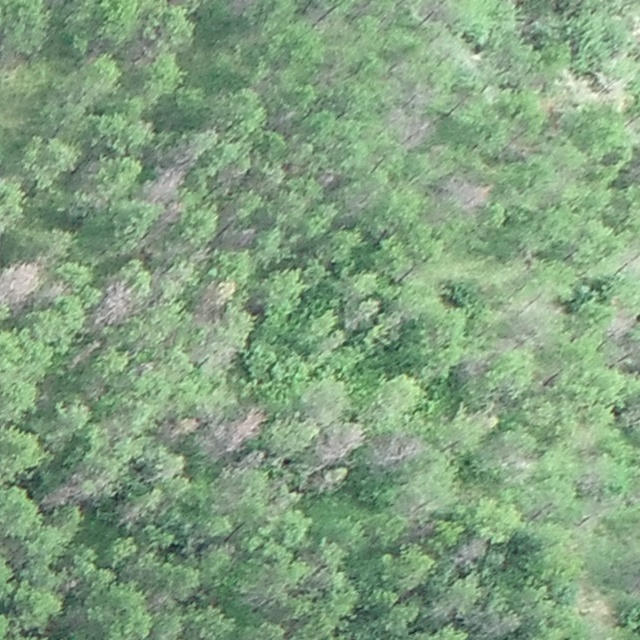unhealthy: (213, 404, 266, 456), (386, 100, 438, 151), (39, 471, 100, 509), (144, 156, 192, 204), (93, 279, 138, 328), (314, 422, 365, 465), (370, 431, 426, 468), (439, 174, 492, 213), (0, 258, 40, 309), (194, 280, 236, 323), (157, 413, 199, 442), (452, 537, 487, 570), (344, 299, 380, 331), (125, 35, 158, 69), (308, 468, 348, 495), (480, 612, 520, 639), (606, 309, 638, 342), (68, 340, 103, 370), (153, 202, 186, 233), (223, 223, 260, 249), (118, 497, 149, 527), (457, 354, 491, 381), (616, 239, 639, 276), (215, 164, 245, 192), (576, 465, 603, 494), (224, 0, 259, 18), (317, 170, 339, 189)
